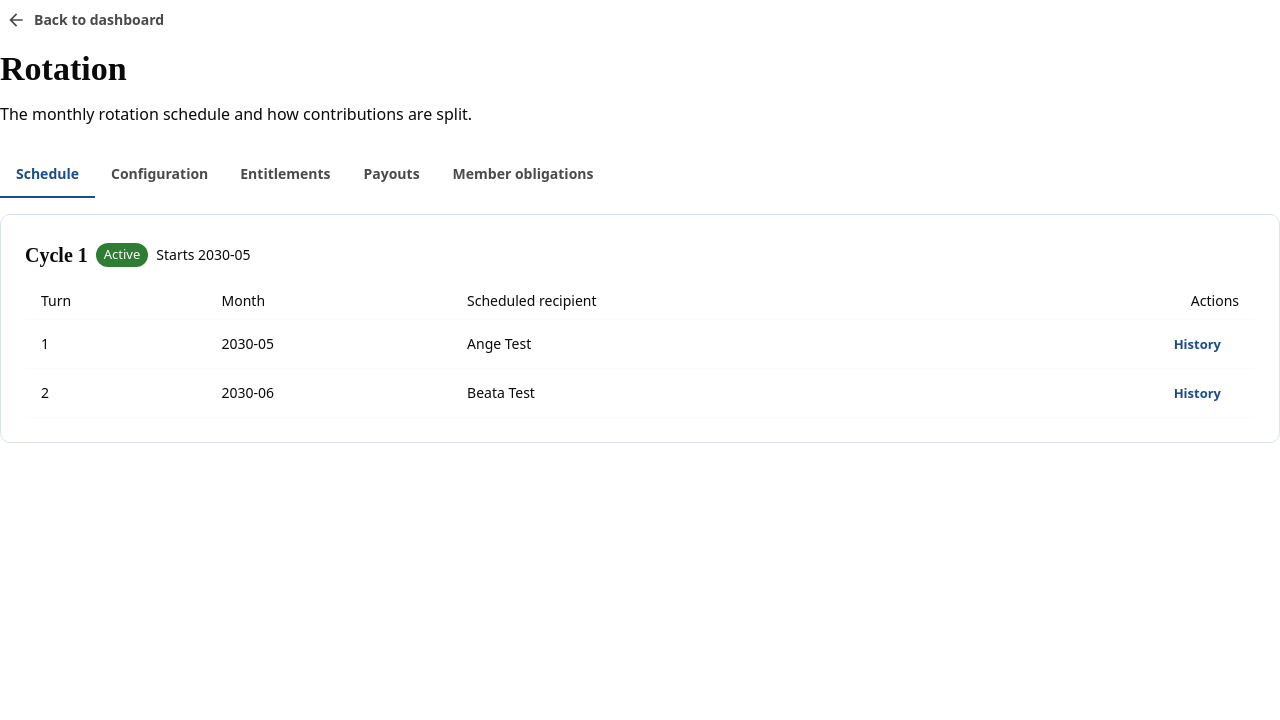
Test case: RotationPage › shows the recorded history of a turn
Click the button "History" in the row of "2030-06": [1197, 393] box [1156,375,1239,411]
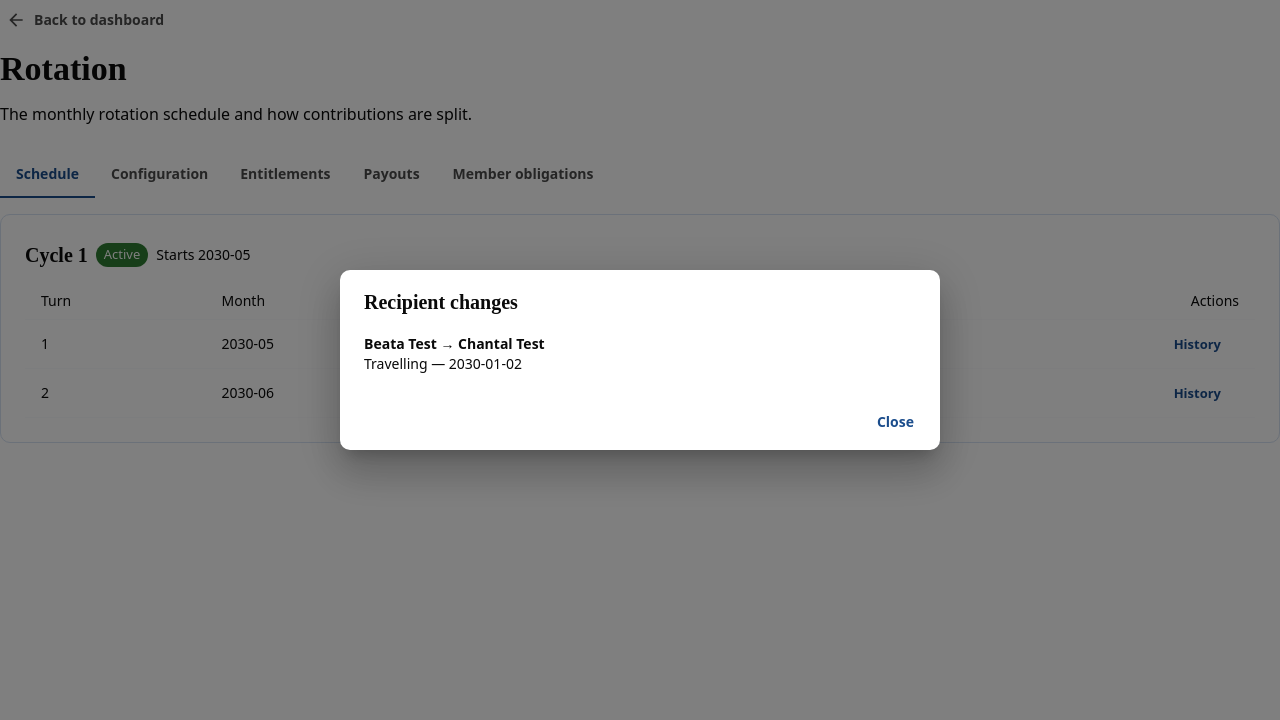
Check: the element with test id "rotation-change" shows "Beata Test → Chantal Test", box [364,334,545,373]
Check: the element with test id "rotation-change" shows "Travelling", box [364,354,428,373]
